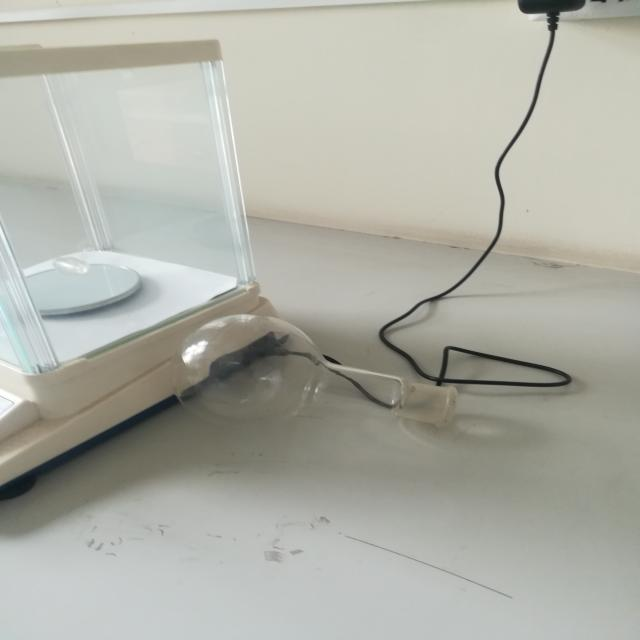Round_Bottom_Flask_Borosilicate_Glass_1_Neck: (147, 270, 478, 463)
